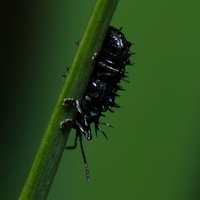insect: (60, 26, 132, 181)
